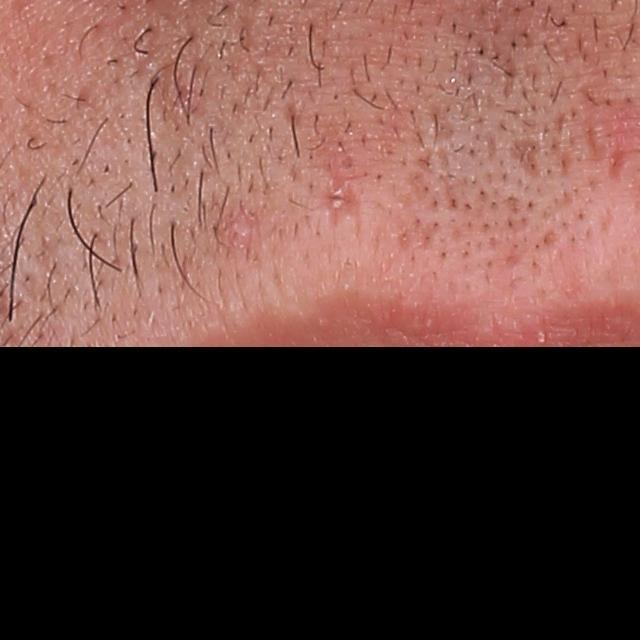atrophic_scar: (322, 153, 360, 236), (217, 192, 253, 256), (548, 107, 578, 182), (506, 133, 548, 179), (430, 109, 461, 140)
